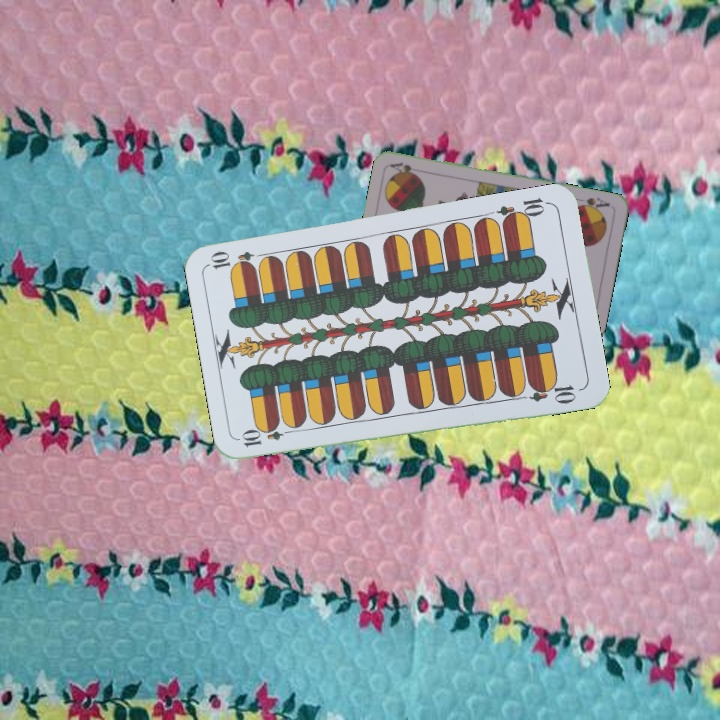E10: (494, 194, 552, 226), (238, 423, 297, 450)
SA: (572, 193, 612, 213)
